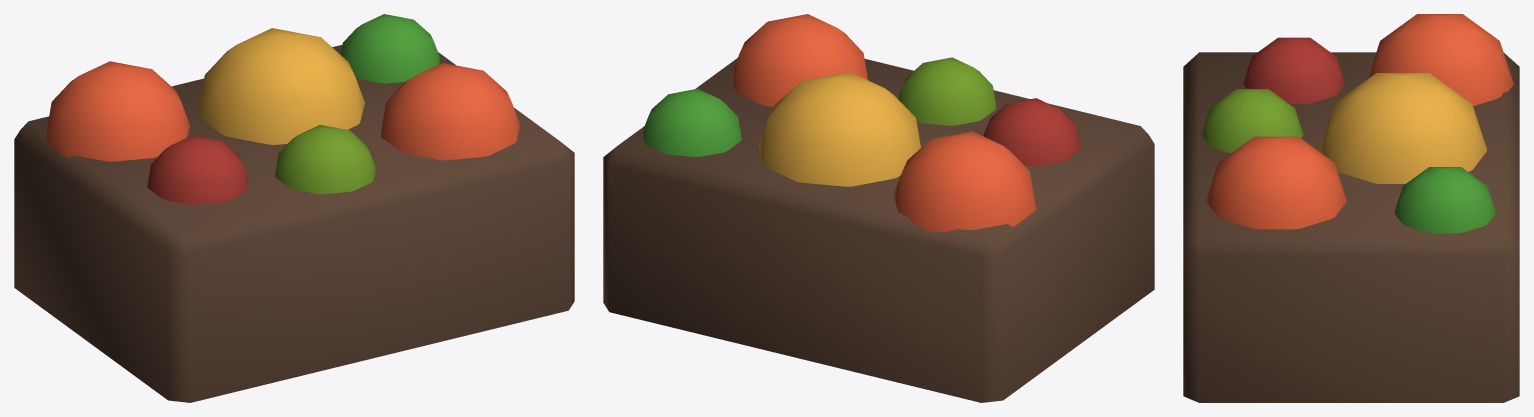
The model's file is Fruit-box.fbx.
The picture shows the model from 3 angles, left to right: view 1: azimuth 30°, elevation 25°; view 2: azimuth 150°, elevation 25°; view 3: azimuth 270°, elevation 25°; orthographic projection.
Visible parts, largest first — view 1: Cube.907, Icosphere.233, Icosphere.232, Icosphere.235, Icosphere.237, Icosphere.236, Icosphere.234; view 2: Cube.907, Icosphere.233, Icosphere.232, Icosphere.235, Icosphere.234, Icosphere.237, Icosphere.236; view 3: Cube.907, Icosphere.233, Icosphere.235, Icosphere.232, Icosphere.234, Icosphere.236, Icosphere.237.
Part boxes in pixels (box(x1,y1,x2,y2)): Cube.907: box(14, 44, 574, 402); Icosphere.233: box(198, 28, 364, 144); Icosphere.232: box(45, 61, 189, 161); Icosphere.235: box(380, 63, 520, 160); Icosphere.237: box(275, 125, 376, 194); Icosphere.236: box(147, 135, 248, 204); Icosphere.234: box(341, 14, 440, 83); Cube.907: box(603, 58, 1154, 402); Icosphere.233: box(758, 72, 920, 186); Icosphere.232: box(893, 131, 1036, 232); Icosphere.235: box(731, 14, 867, 106); Icosphere.234: box(642, 88, 741, 156); Icosphere.237: box(898, 57, 996, 125); Icosphere.236: box(983, 98, 1080, 166); Cube.907: box(1183, 52, 1519, 402); Icosphere.233: box(1319, 73, 1486, 183); Icosphere.235: box(1206, 136, 1346, 229); Icosphere.232: box(1368, 14, 1513, 105); Icosphere.234: box(1394, 167, 1495, 233); Icosphere.236: box(1243, 37, 1344, 103); Icosphere.237: box(1202, 89, 1303, 153).
Bounding box in the file's own units: 20.12 × 11.22 × 14.58.
